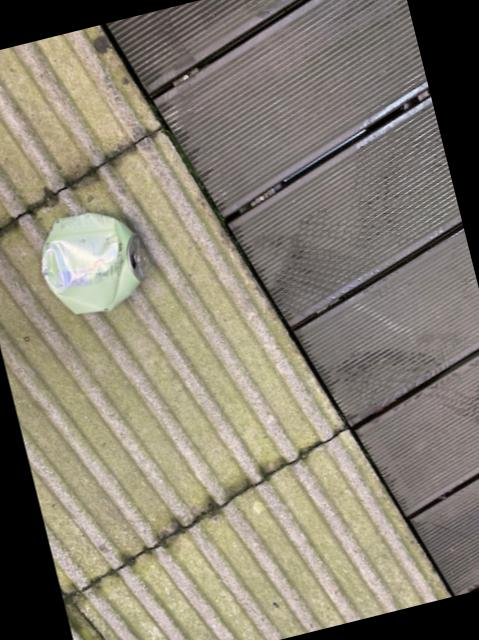metal: (40, 213, 142, 312)
